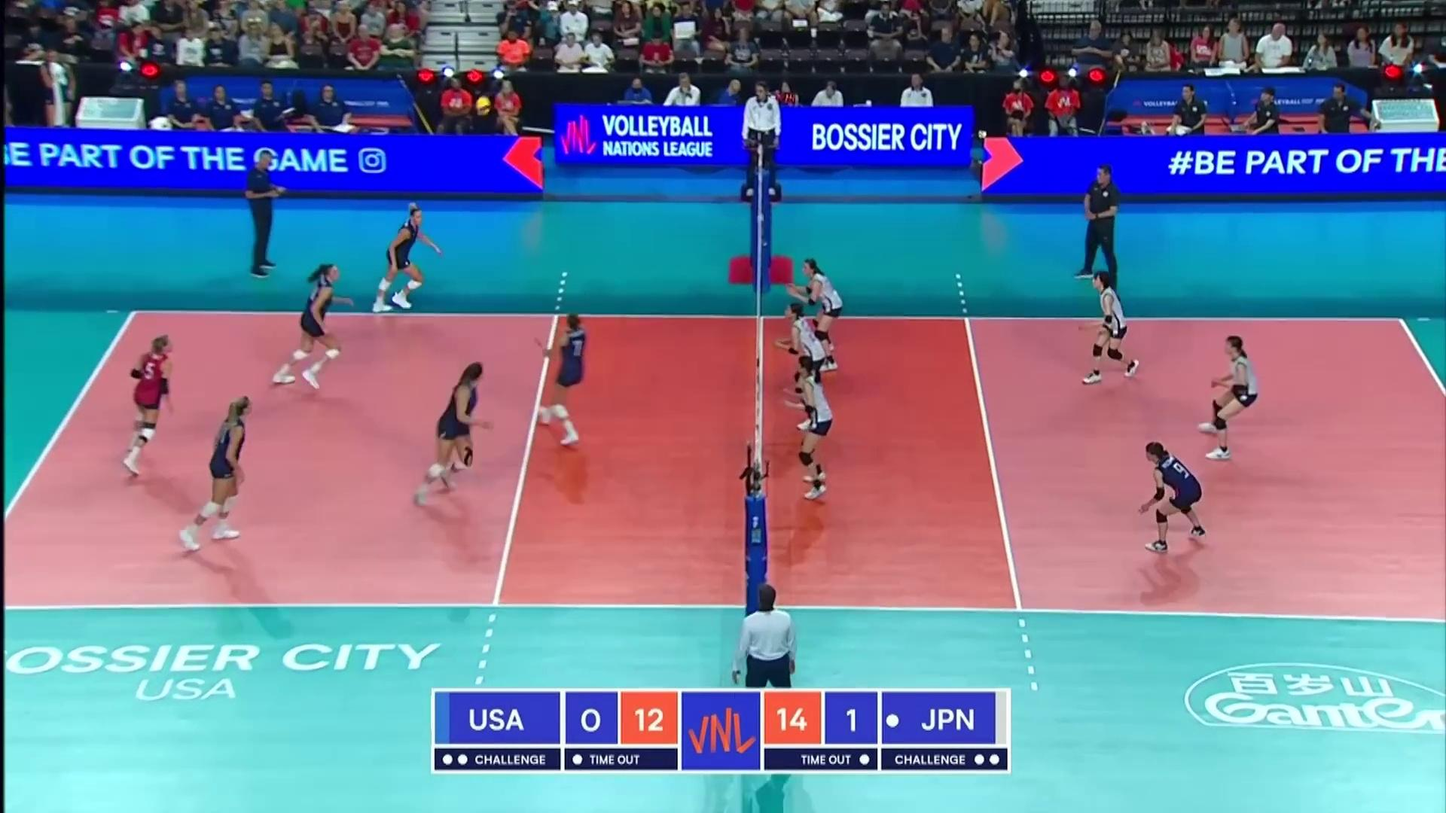player: (177, 397, 256, 550), (410, 364, 492, 509), (272, 267, 353, 392), (121, 332, 175, 478), (371, 203, 441, 315), (1200, 336, 1261, 458), (1141, 443, 1208, 554), (532, 313, 587, 447), (785, 357, 835, 503), (1082, 274, 1142, 386), (775, 302, 827, 429), (789, 258, 844, 370)
refree: (735, 586, 798, 692), (742, 83, 783, 193)
